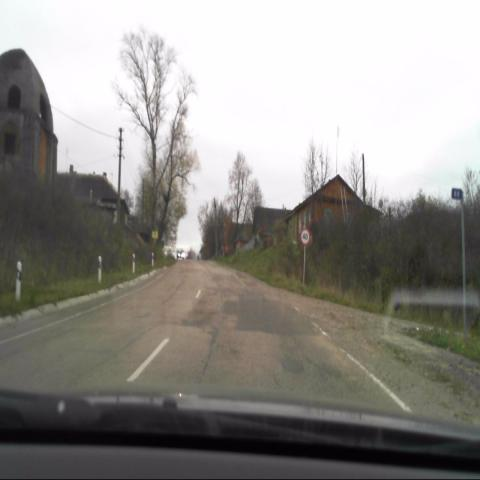3_24: (300, 229, 310, 245)
